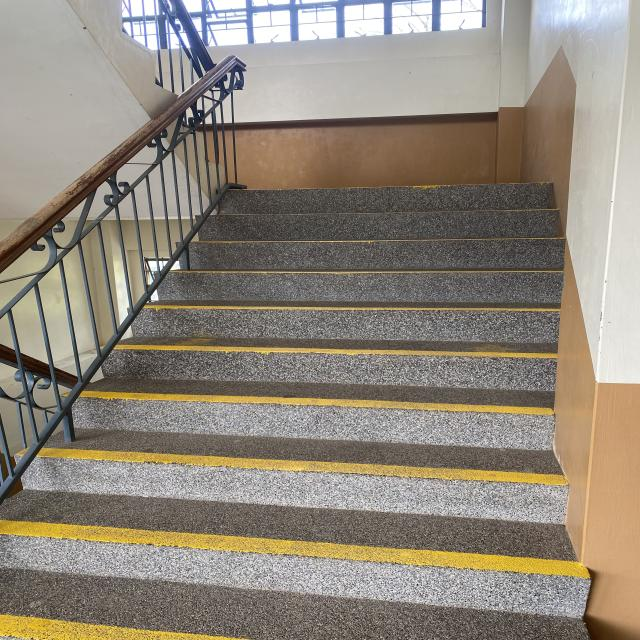stair: (0, 185, 589, 639)
